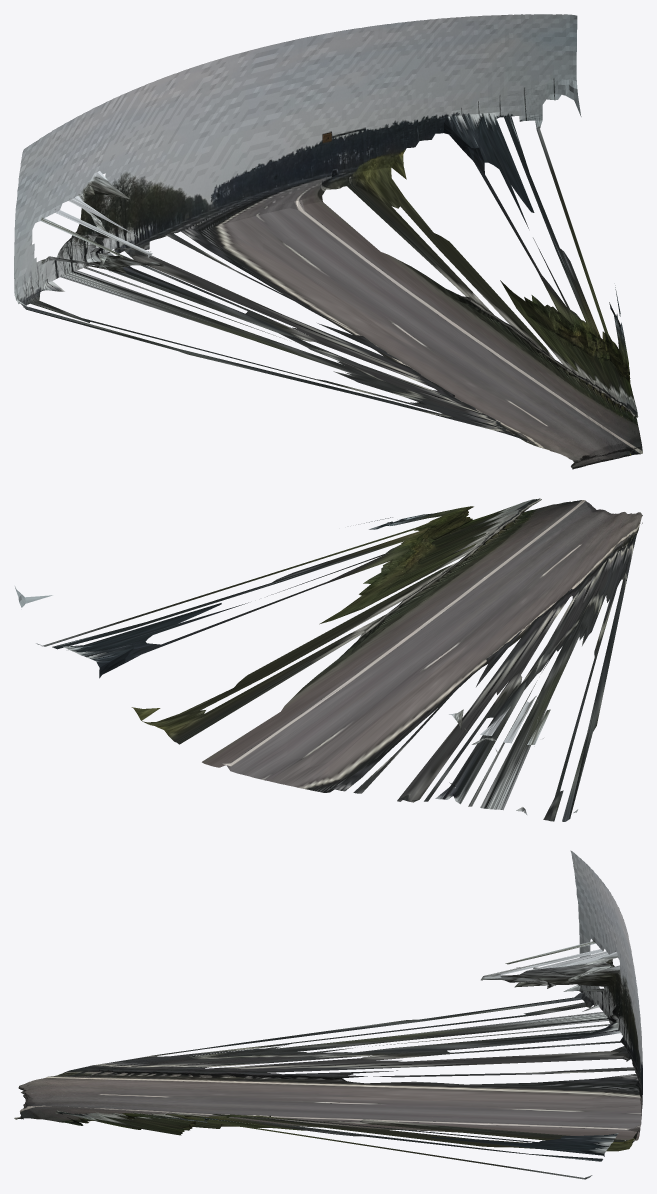
3 views of the same model, one above another, from view 1: azimuth 30°, elevation 25°; view 2: azimuth 150°, elevation 25°; view 3: azimuth 270°, elevation 25° (orthographic). The views are drawn at different scales.
Visible parts, largest first — view 1: defaultobject; view 2: defaultobject; view 3: defaultobject.
Part boxes in pixels (x1,y1,x2,y2): defaultobject: [14, 14, 642, 469]; defaultobject: [15, 498, 642, 821]; defaultobject: [14, 850, 642, 1179].
Size of the model in its own units: 41.05 by 12.32 by 44.66.
Materials: 1 (1 with a texture image).
